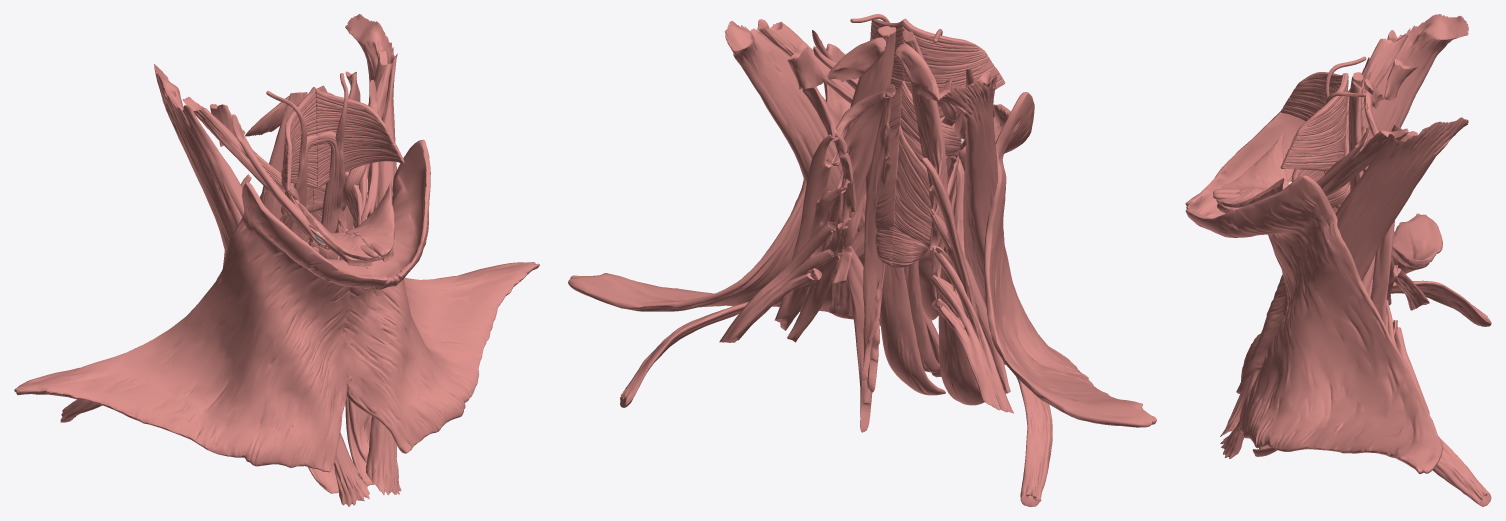
File: muscles-cou.hi.glb
3 renders of one model, left to right at view 1: azimuth 30°, elevation 25°; view 2: azimuth 150°, elevation 25°; view 3: azimuth 270°, elevation 25°, orthographic. The views are drawn at different scales.
Parts seen in each view (by area): view 1: FJ1587, FJ1558, FJ1595, FJ1573, FJ2747, FJ2759, FJ2743, FJ1562, FJ1579, FJ1598, FJ1582, FJ1583 (+8 smaller); view 2: FJ1587, FJ1573, FJ1558, FJ1595, FJ1601, FJ2752, FJ1575, FJ1594, FJ1571, FJ1586, FJ2759, FJ1572 (+18 smaller); view 3: FJ1558, FJ1573, FJ1587, FJ1595, FJ2747, FJ2759, FJ1583, FJ1565, FJ1571, FJ1586, FJ1578, FJ1579 (+8 smaller).
Boxes of the visible parts, x1,y1,x2,y2 form: FJ1587: (14,182,394,472); FJ1558: (343,139,539,453); FJ1595: (154,64,369,506); FJ1573: (345,14,401,495); FJ2747: (314,87,404,188); FJ2759: (281,87,317,191); FJ2743: (317,131,347,259); FJ1562: (345,181,394,260); FJ1579: (182,96,318,236); FJ1598: (232,114,321,244); FJ1582: (260,92,307,219); FJ1583: (298,202,378,261); FJ1587: (936,92,1156,427); FJ1573: (724,19,941,377); FJ1558: (568,43,938,325); FJ1595: (744,26,997,305); FJ1601: (862,87,893,380); FJ2752: (891,125,931,267); FJ1575: (880,264,945,395); FJ1594: (930,248,1013,413); FJ1571: (774,134,841,330); FJ1586: (954,158,1052,506); FJ2759: (903,18,1005,117); FJ1572: (719,224,835,342); FJ1558: (1185,175,1442,473); FJ1573: (1220,117,1468,458); FJ1587: (1185,111,1442,393); FJ1595: (1220,14,1468,436); FJ2747: (1280,73,1348,171); FJ2759: (1280,72,1344,121); FJ1583: (1221,133,1288,193); FJ1565: (1357,401,1491,506); FJ1571: (1370,220,1397,336); FJ1586: (1391,280,1491,326); FJ1578: (1322,128,1408,196); FJ1579: (1287,33,1408,182).
Bounding box in the file's own units: 0.2929 × 0.2014 × 0.1471.
